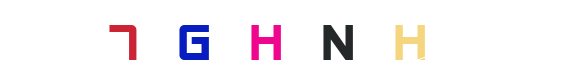7: (153, 0, 233, 80)
G: (172, 0, 252, 80)
H: (248, 0, 328, 80), (334, 0, 414, 80)
N: (298, 0, 378, 80)
